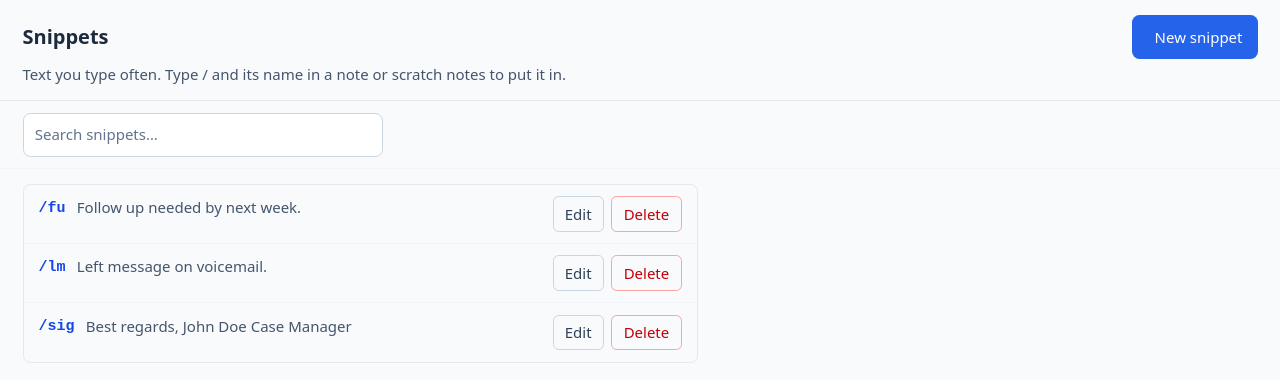
SnippetsView — data smoke tests › filters snippets by search matching expansion text
Expected: the text "/lm" is shown, [38,257,66,280]
Type "voicemail" into the search field with placeholder "Search snippets…".
click(202, 134); type("voicemail")  # box [22,112,382,156]
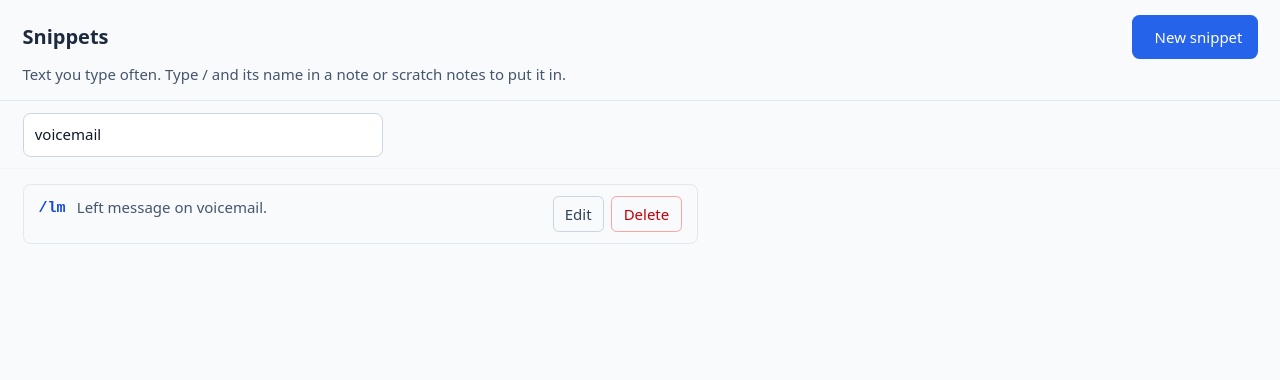
Expected: the text "/lm" is shown, [38,198,66,220]
Now the text "/fu" is gone
Now the text "/sig" is gone
